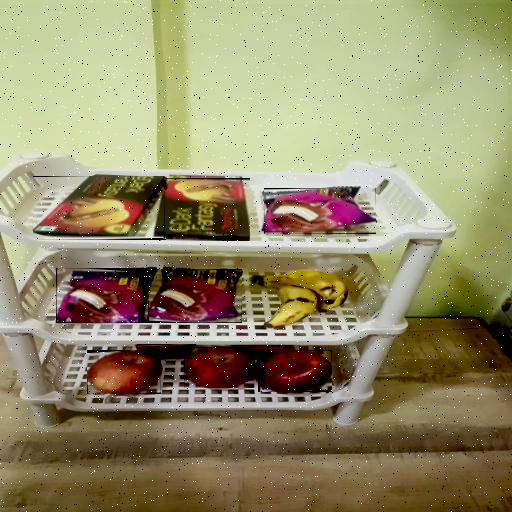Apple: (87, 350, 161, 394), (258, 350, 332, 392), (184, 347, 255, 388), (137, 344, 196, 359), (234, 345, 292, 360)
Choco Fills: (34, 176, 166, 240), (159, 178, 250, 241)
Choco Pie: (56, 268, 156, 323), (264, 188, 376, 234), (148, 269, 242, 323)
